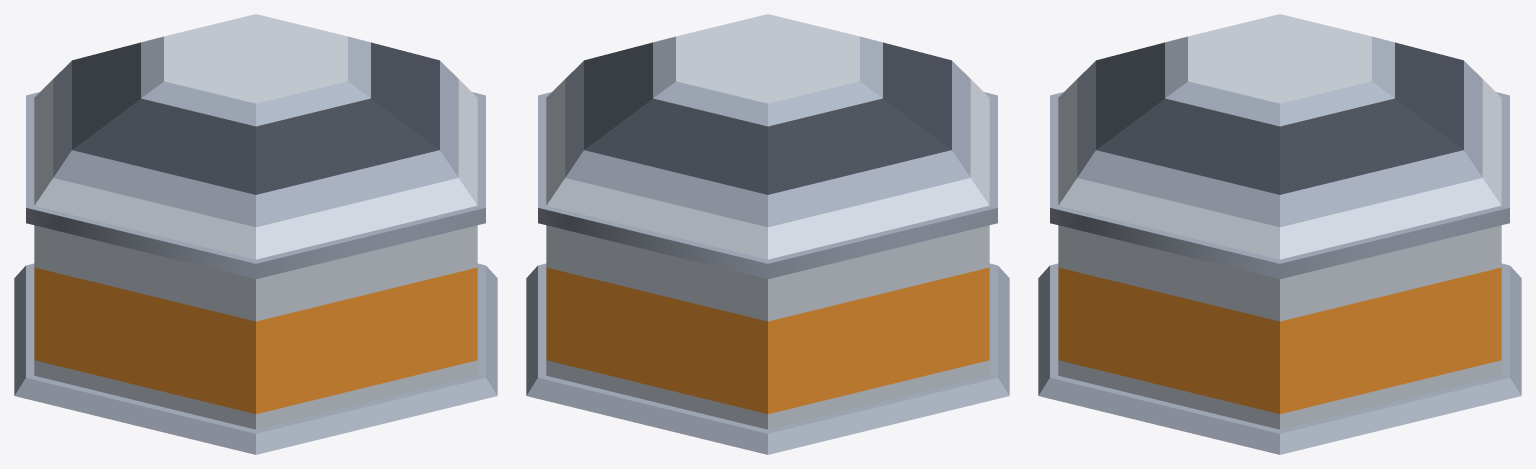
The model's file is hangar_roundB.fbx.
3 renders of one model, left to right at view 1: azimuth 30°, elevation 25°; view 2: azimuth 150°, elevation 25°; view 3: azimuth 270°, elevation 25°, orthographic.
Parts seen in each view (by area): view 1: hangar_roundB; view 2: hangar_roundB; view 3: hangar_roundB.
Part boxes in pixels (x1,y1,x2,y2): hangar_roundB: (14,14,497,454); hangar_roundB: (526,14,1009,454); hangar_roundB: (1038,14,1521,454).
Bounding box in the file's own units: 81.78 × 45 × 70.82.
